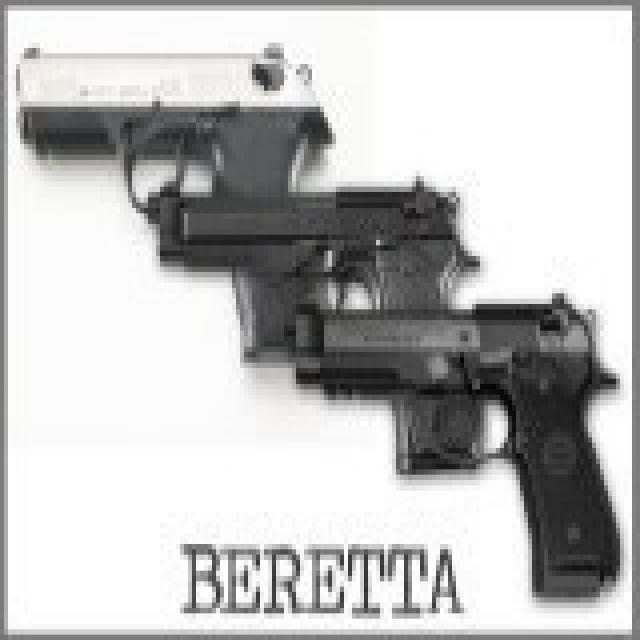Gun: (14, 35, 623, 602)
